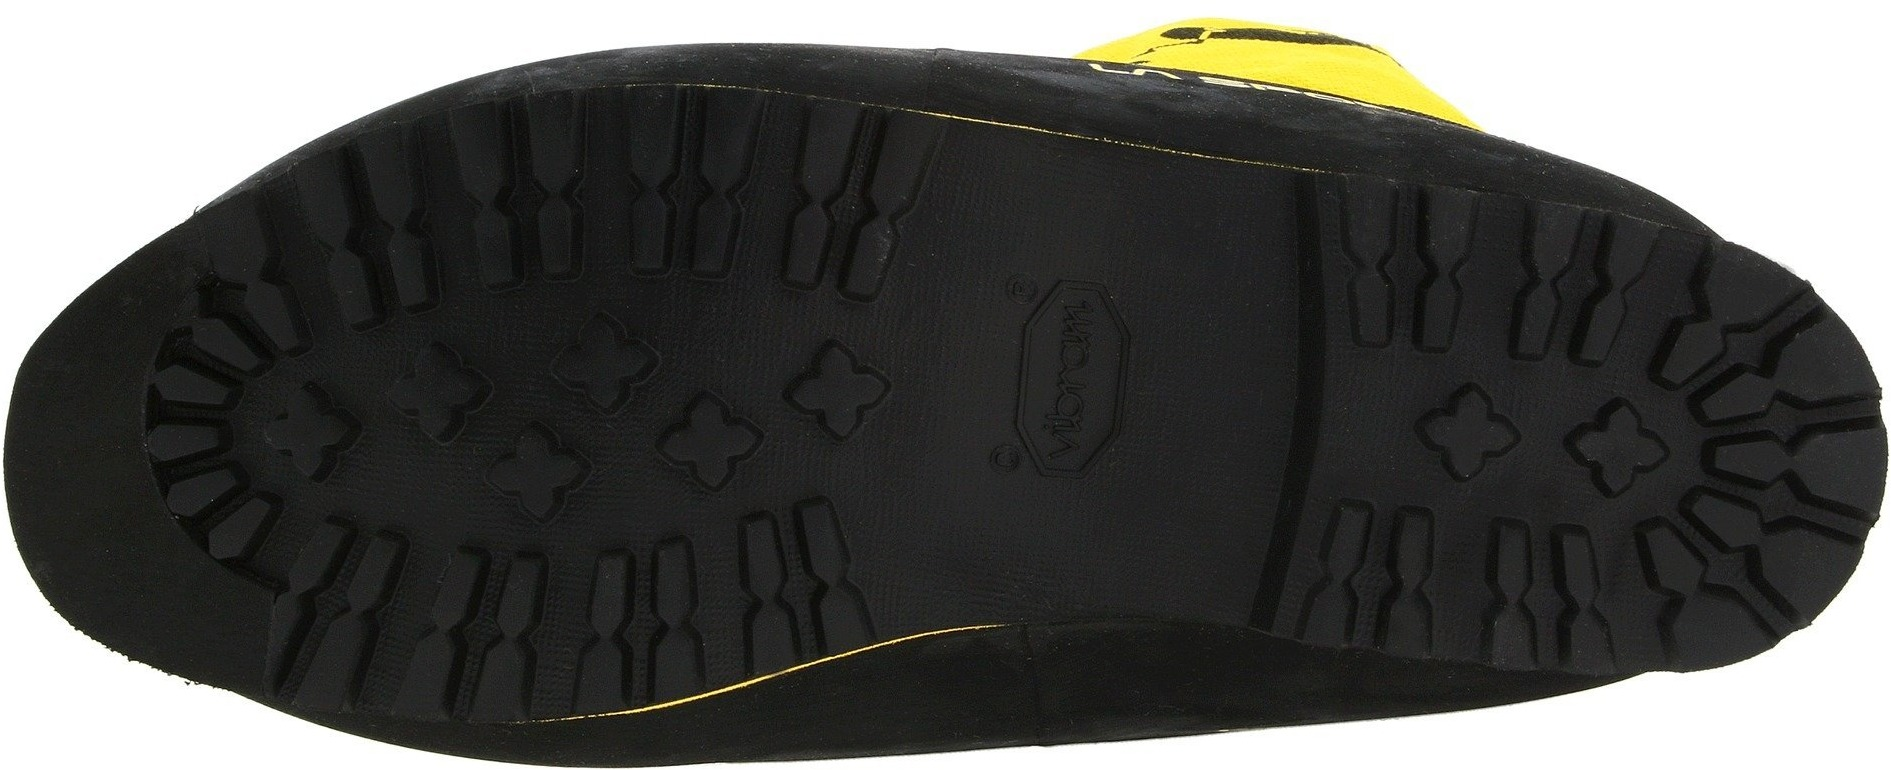bowtie: (601, 83, 789, 293), (286, 533, 466, 724), (421, 121, 590, 296), (207, 196, 384, 346), (1700, 297, 1844, 463), (1477, 502, 1622, 654), (1331, 202, 1469, 342), (582, 552, 719, 692), (1325, 498, 1451, 626)
star: (404, 313, 633, 539), (652, 291, 874, 520), (1397, 350, 1562, 511), (252, 377, 379, 495), (1574, 371, 1685, 495)
text: (968, 266, 1159, 454)
